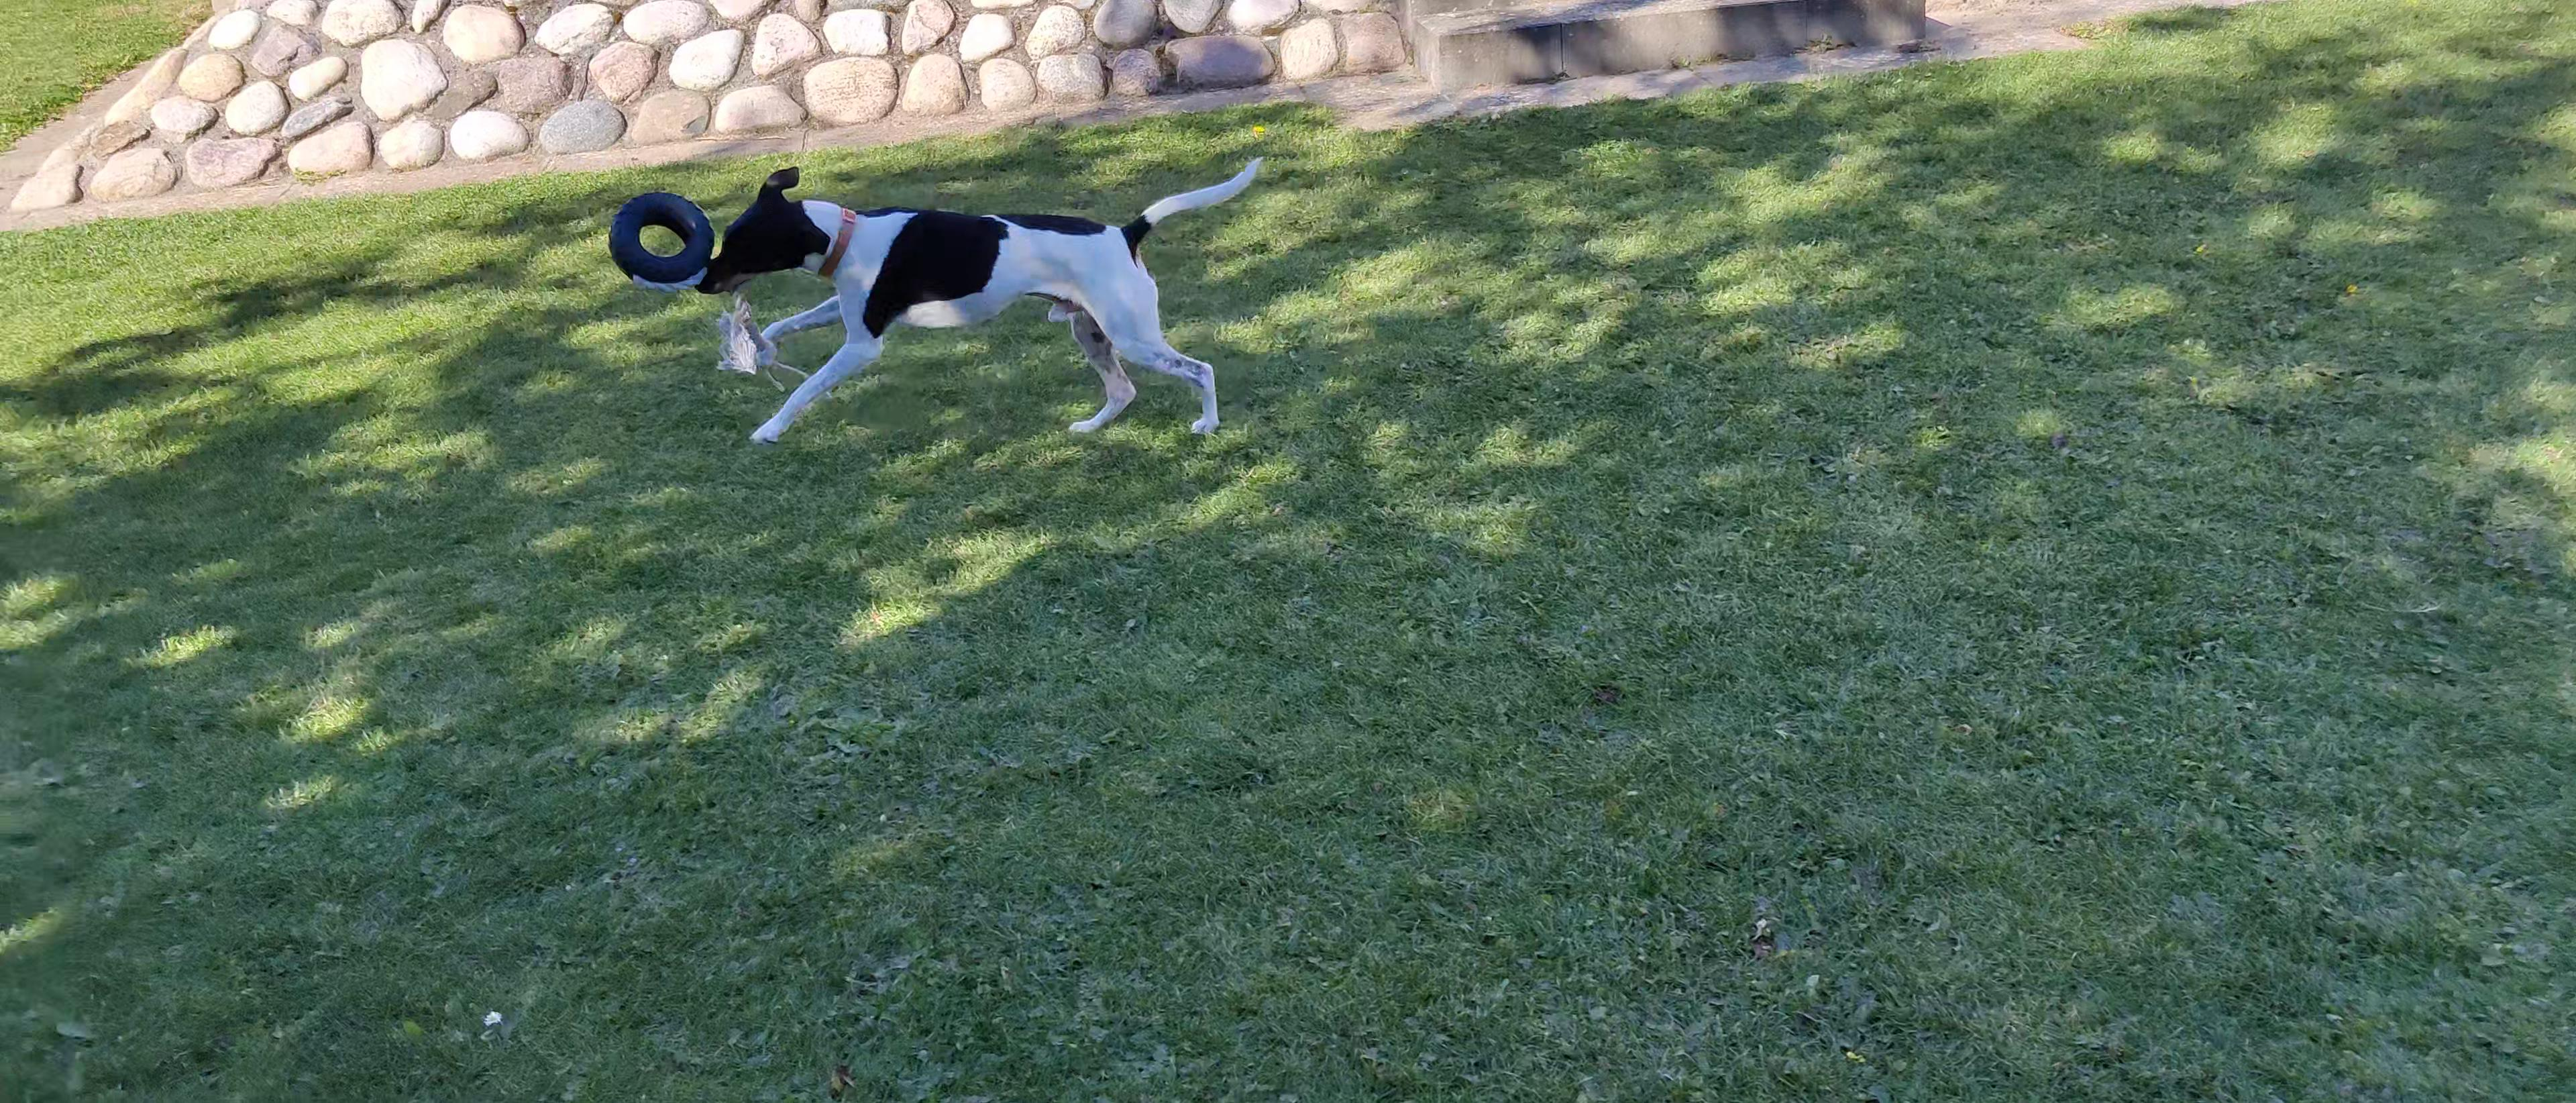Dog: (685, 153, 1270, 447)
